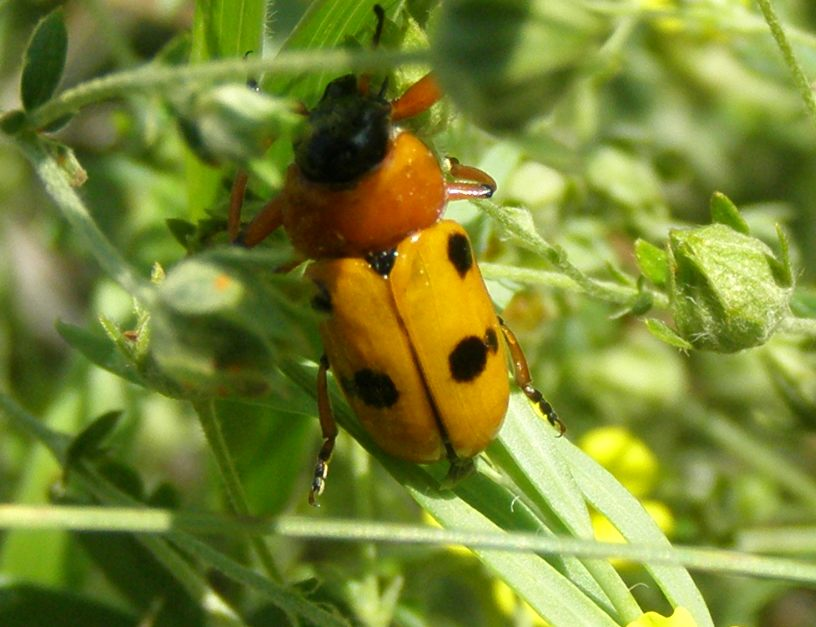Tituboea_macropus: (212, 65, 571, 517)
